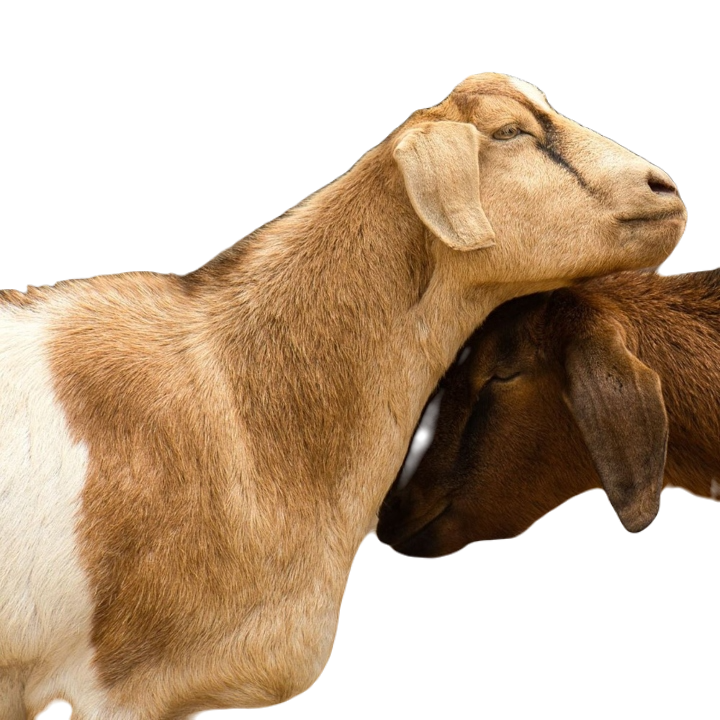Goat: (0, 71, 687, 719)
